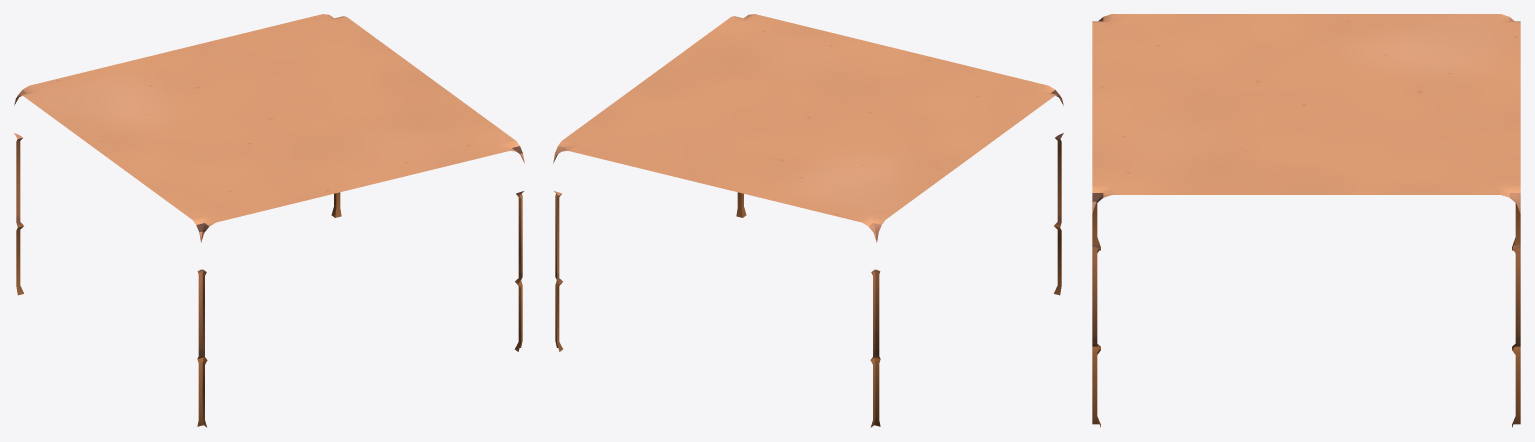
The model's file is ground_cross.glb.
The picture shows the model from 3 angles, left to right: view 1: azimuth 30°, elevation 25°; view 2: azimuth 150°, elevation 25°; view 3: azimuth 270°, elevation 25°; orthographic projection. The views are drawn at different scales.
Visible parts, largest first — view 1: ground_cross; view 2: ground_cross; view 3: ground_cross.
Boxes of the visible parts, left/top/right/bottom form: ground_cross: left=14, top=14, right=524, bottom=427; ground_cross: left=553, top=14, right=1063, bottom=427; ground_cross: left=1092, top=14, right=1520, bottom=427.
Size of the model in its own units: 1 by 0.6 by 1.
2 materials, 2 textured.
